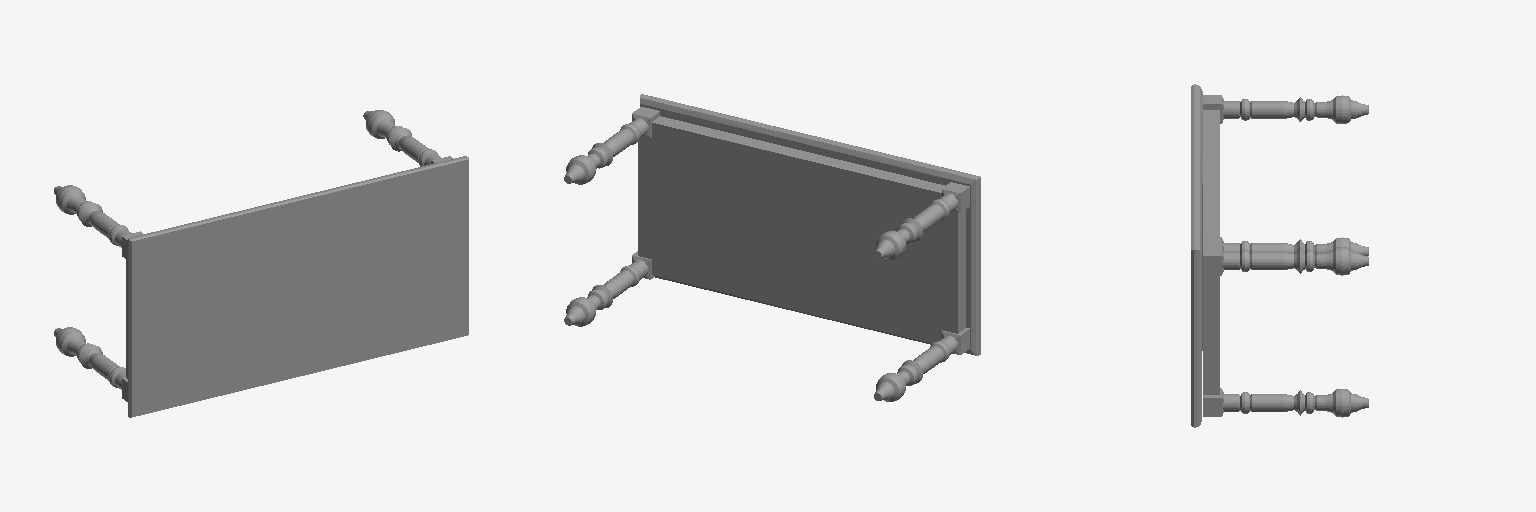
File: Table_1.obj
The picture shows the model from 3 angles: view 1: azimuth 30°, elevation 25°; view 2: azimuth 150°, elevation 25°; view 3: azimuth 270°, elevation 25°; orthographic projection.
Parts seen in each view (by area): view 1: Cylinder.002; view 2: Cylinder.002; view 3: Cylinder.002.
Boxes of the visible parts, x1=… form: Cylinder.002: x1=54, y1=110, x2=468, y2=417; Cylinder.002: x1=564, y1=94, x2=980, y2=401; Cylinder.002: x1=1191, y1=84, x2=1368, y2=427.
Bounding box in the file's own units: 101 × 50.49 × 45.68.